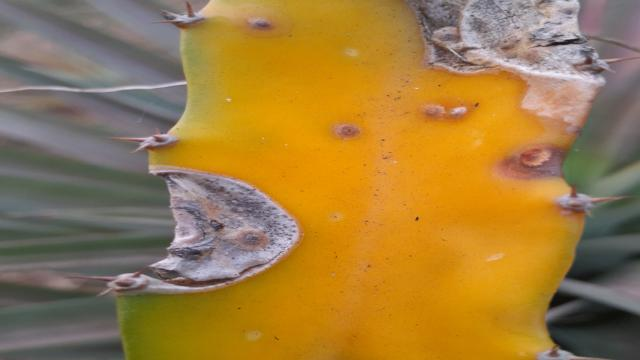stemcanker: (491, 140, 561, 179), (416, 96, 476, 126), (314, 117, 371, 143), (246, 10, 281, 37)
